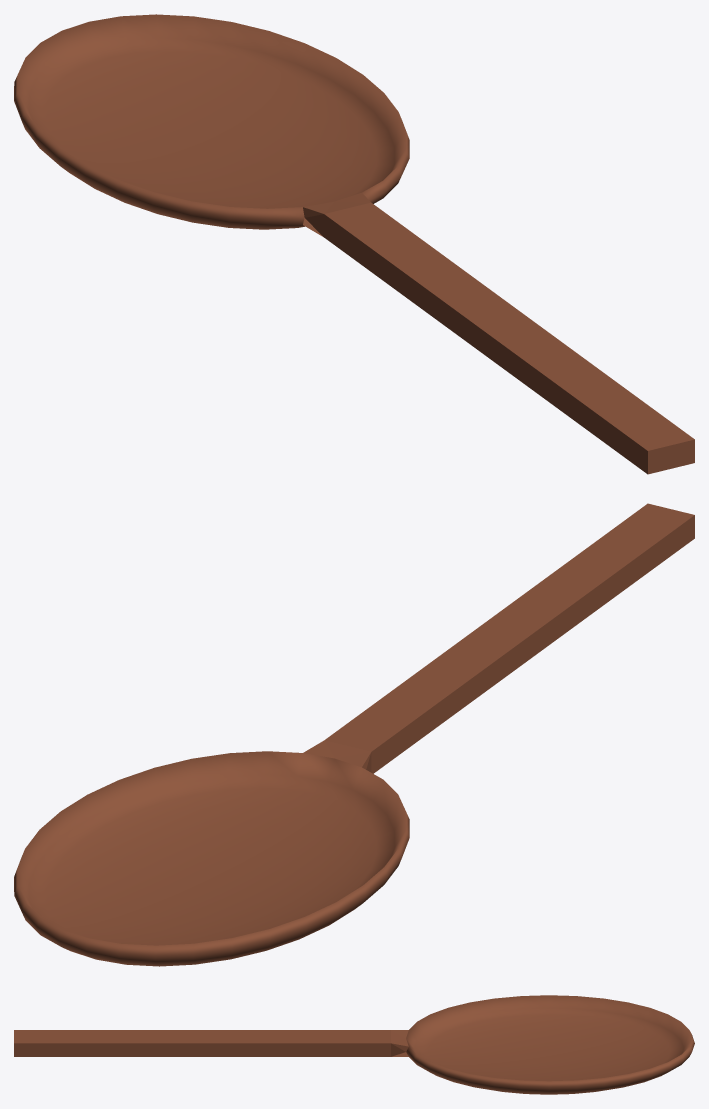
The model's file is woodenSpoon.fbx.
3 views of the same model, one above another, from view 1: azimuth 30°, elevation 25°; view 2: azimuth 150°, elevation 25°; view 3: azimuth 270°, elevation 25° (orthographic). The views are drawn at different scales.
Parts seen in each view (by area): view 1: Cube; view 2: Cube; view 3: Cube.
Boxes of the visible parts, box(x1,y1,x2,y2) form: Cube: box(14, 14, 694, 474); Cube: box(14, 503, 694, 966); Cube: box(14, 995, 694, 1094).
Size of the model in its own units: 56.3 by 10.05 by 185.
